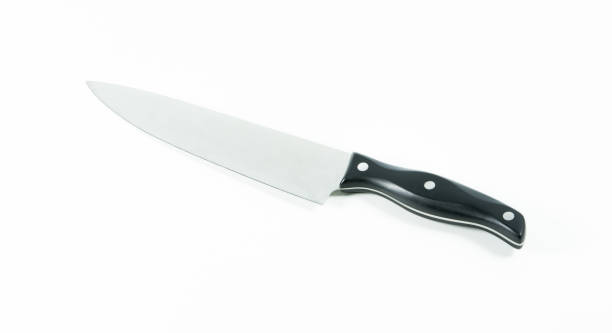knife: (87, 80, 528, 250)
